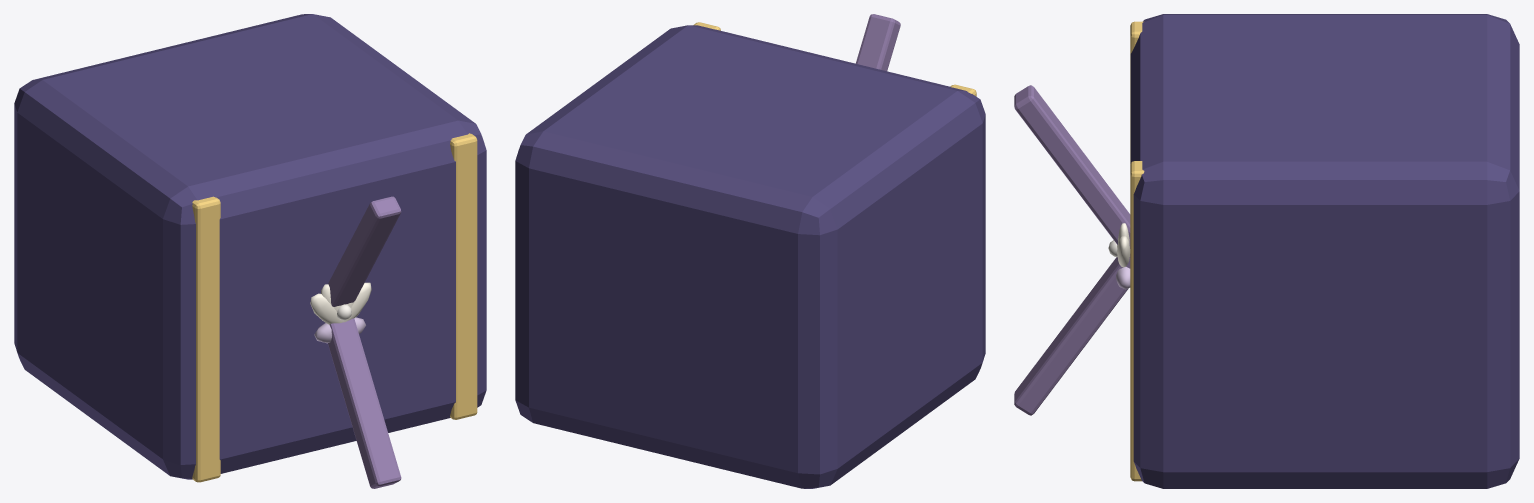
The model's file is pearl_storage_crate.glb.
3 views of the same model, side by side, from view 1: azimuth 30°, elevation 25°; view 2: azimuth 150°, elevation 25°; view 3: azimuth 270°, elevation 25° (orthographic). The views are drawn at different scales.
Parts seen in each view (by area): view 1: pearl_storage_crate.001; view 2: pearl_storage_crate.001; view 3: pearl_storage_crate.001.
Boxes of the visible parts, x1=… form: pearl_storage_crate.001: x1=14, y1=14, x2=486, y2=488; pearl_storage_crate.001: x1=515, y1=14, x2=985, y2=488; pearl_storage_crate.001: x1=1014, y1=14, x2=1519, y2=488.
Size of the model in its own units: 3.55 by 3.1 by 4.35.
